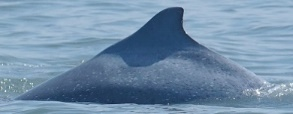fin: (10, 4, 284, 105)
